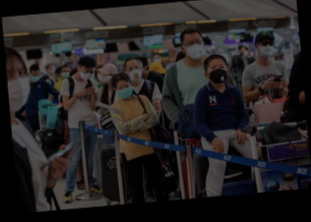with_mask: (8, 66, 32, 111), (185, 36, 205, 61), (208, 62, 228, 84), (258, 37, 275, 59), (115, 82, 133, 100), (126, 64, 143, 82), (78, 66, 94, 81), (98, 71, 112, 85), (29, 71, 41, 83), (59, 68, 72, 79), (152, 54, 161, 64), (48, 65, 55, 73)
